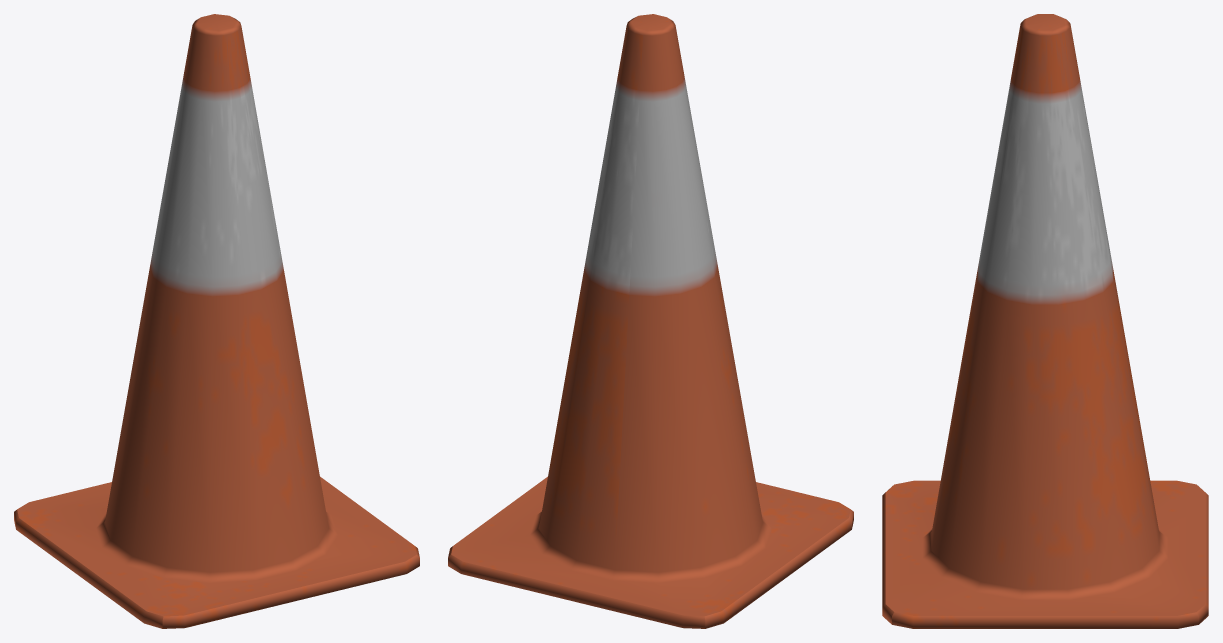
The model's file is TrafficCone01.fbx.
The picture shows the model from 3 angles, left to right: view 1: azimuth 30°, elevation 25°; view 2: azimuth 150°, elevation 25°; view 3: azimuth 270°, elevation 25°; orthographic projection. The views are drawn at different scales.
Visible parts, largest first — view 1: TrafficCone01; view 2: TrafficCone01; view 3: TrafficCone01.
Boxes of the visible parts, x1,y1,x2,y2 form: TrafficCone01: (14, 14, 419, 628); TrafficCone01: (448, 14, 853, 628); TrafficCone01: (882, 14, 1208, 628).
Size of the model in its own units: 27.51 by 27.51 by 50.
